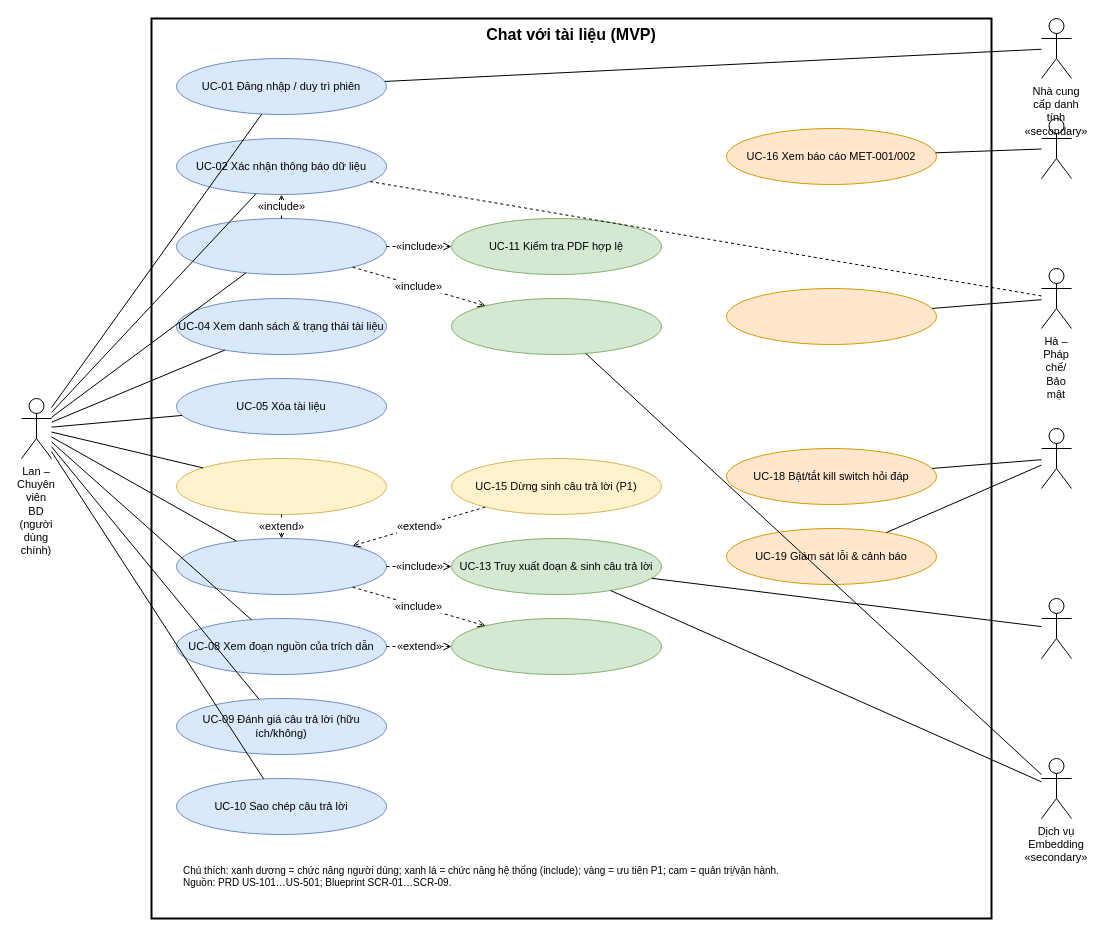
This 1105x936 diagram has some shape labels left out. The centre of each missing label's shape, as x and y in pixels:
"Dịch vụ LLM «secondary»" belongs at [1056,628].
"Minh – Quản lý" belongs at [1056,148].
"UC-03 Tải PDF lên" belongs at [281,246].
"UC-06 Chọn tài liệu tham gia câu hỏi (P1)" belongs at [281,486].
"UC-07 Đặt câu hỏi về tài liệu" belongs at [281,566].
"UC-12 Xử lý & lập chỉ mục PDF" belongs at [556,326].
"UC-14 Hiển thị trích dẫn" belongs at [556,646].
"UC-17 Xem nhật ký tải/xóa (P1)" belongs at [831,316].
"Vận hành (Ops)" belongs at [1056,458].
